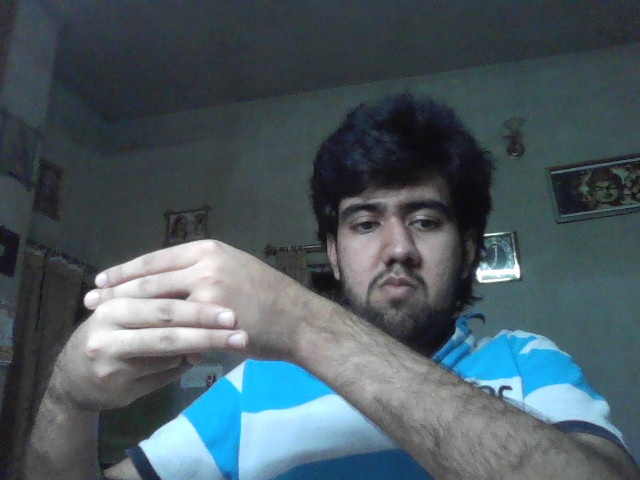Name: (66, 242, 295, 406)
